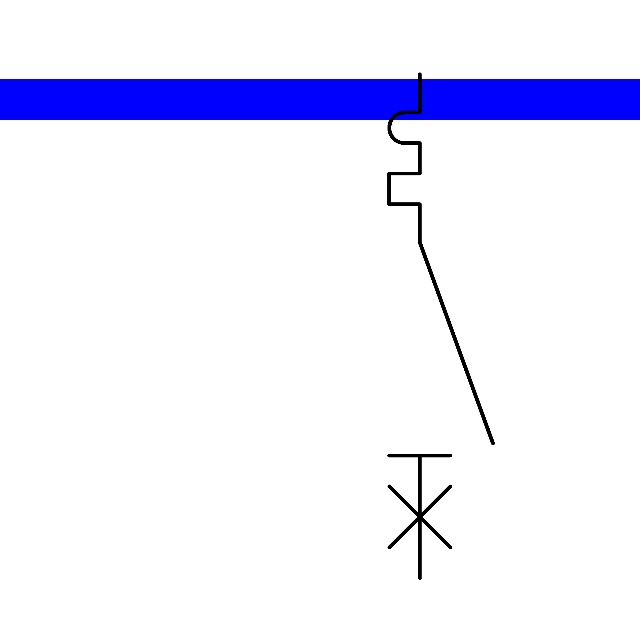interruptor_termomagnetico: (376, 61, 506, 591)
